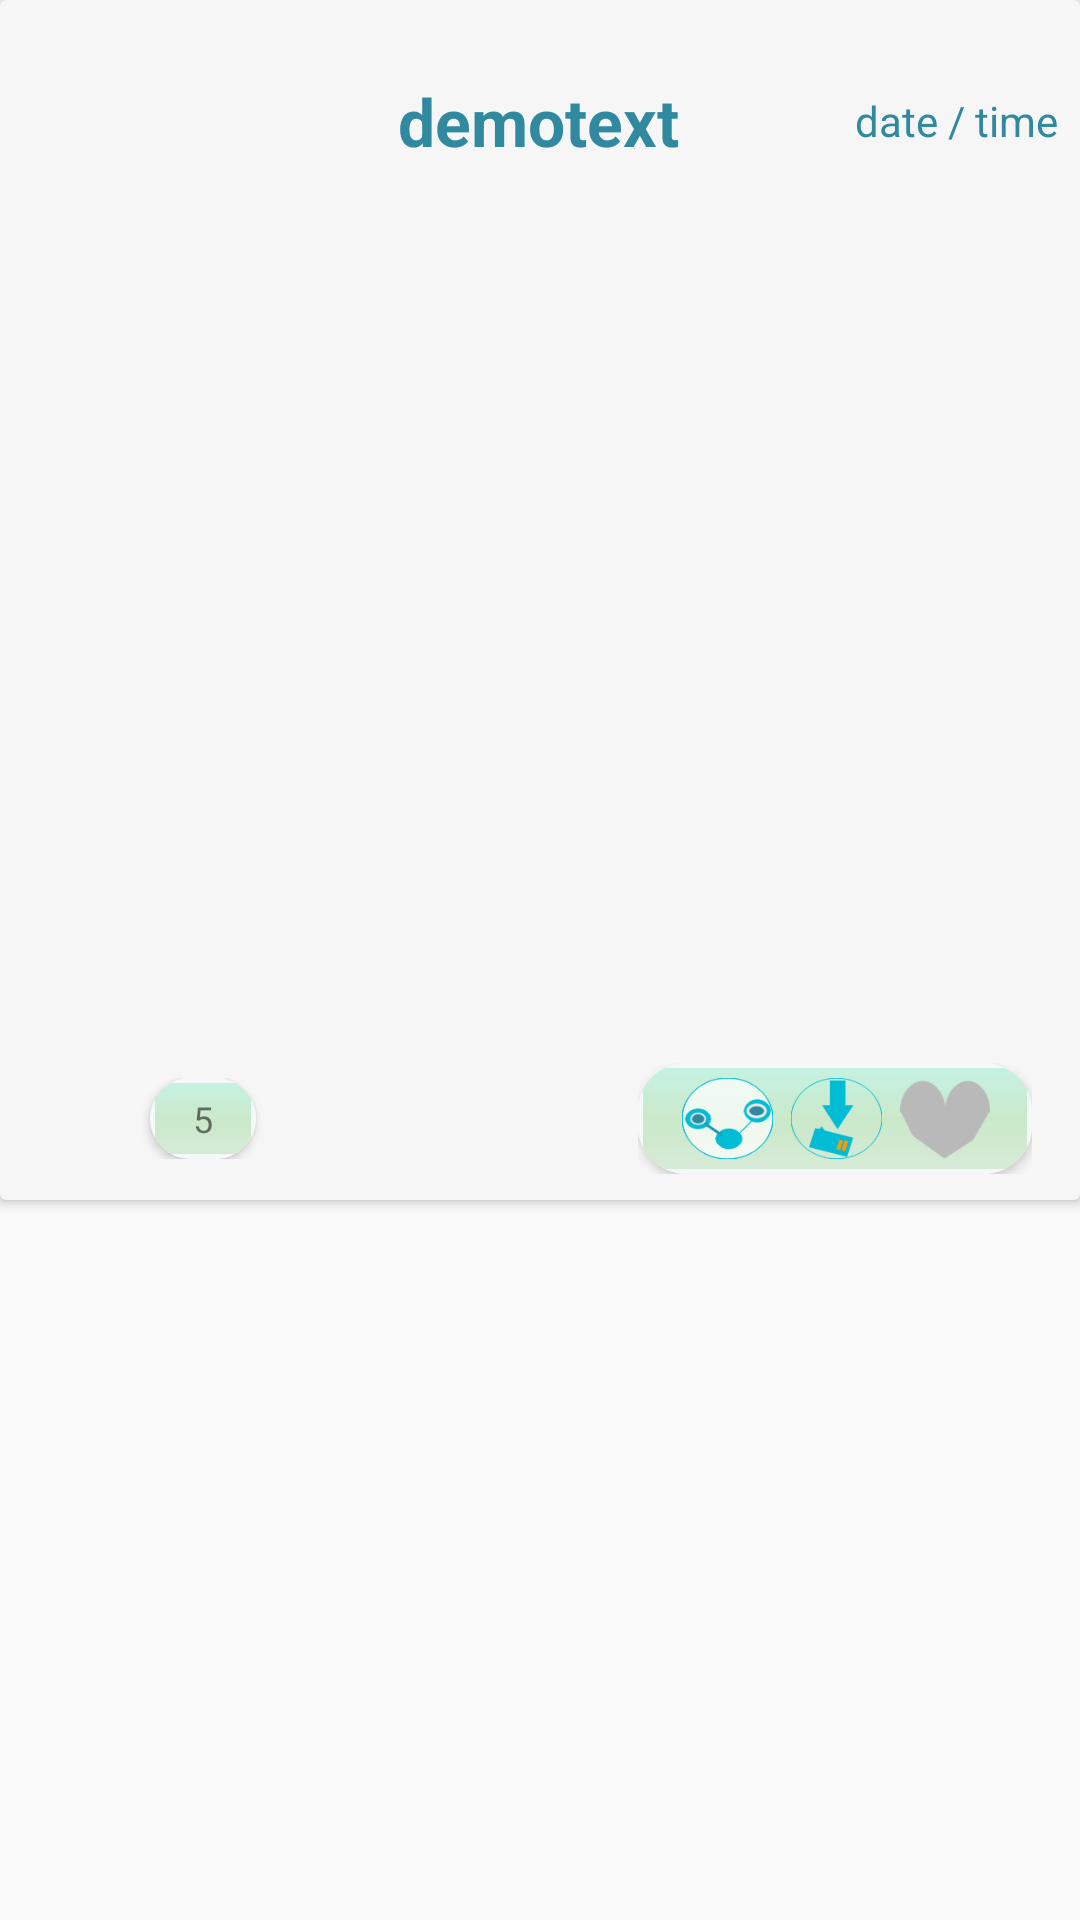

Icon click points for this 1080 × 1920 phone screenshot, format (x=x, y=y):
down: (x=836, y=1118)
like: (x=945, y=1119)
share: (x=727, y=1118)
